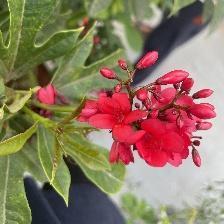jatropha: (93, 90, 149, 142), (129, 118, 186, 169)
